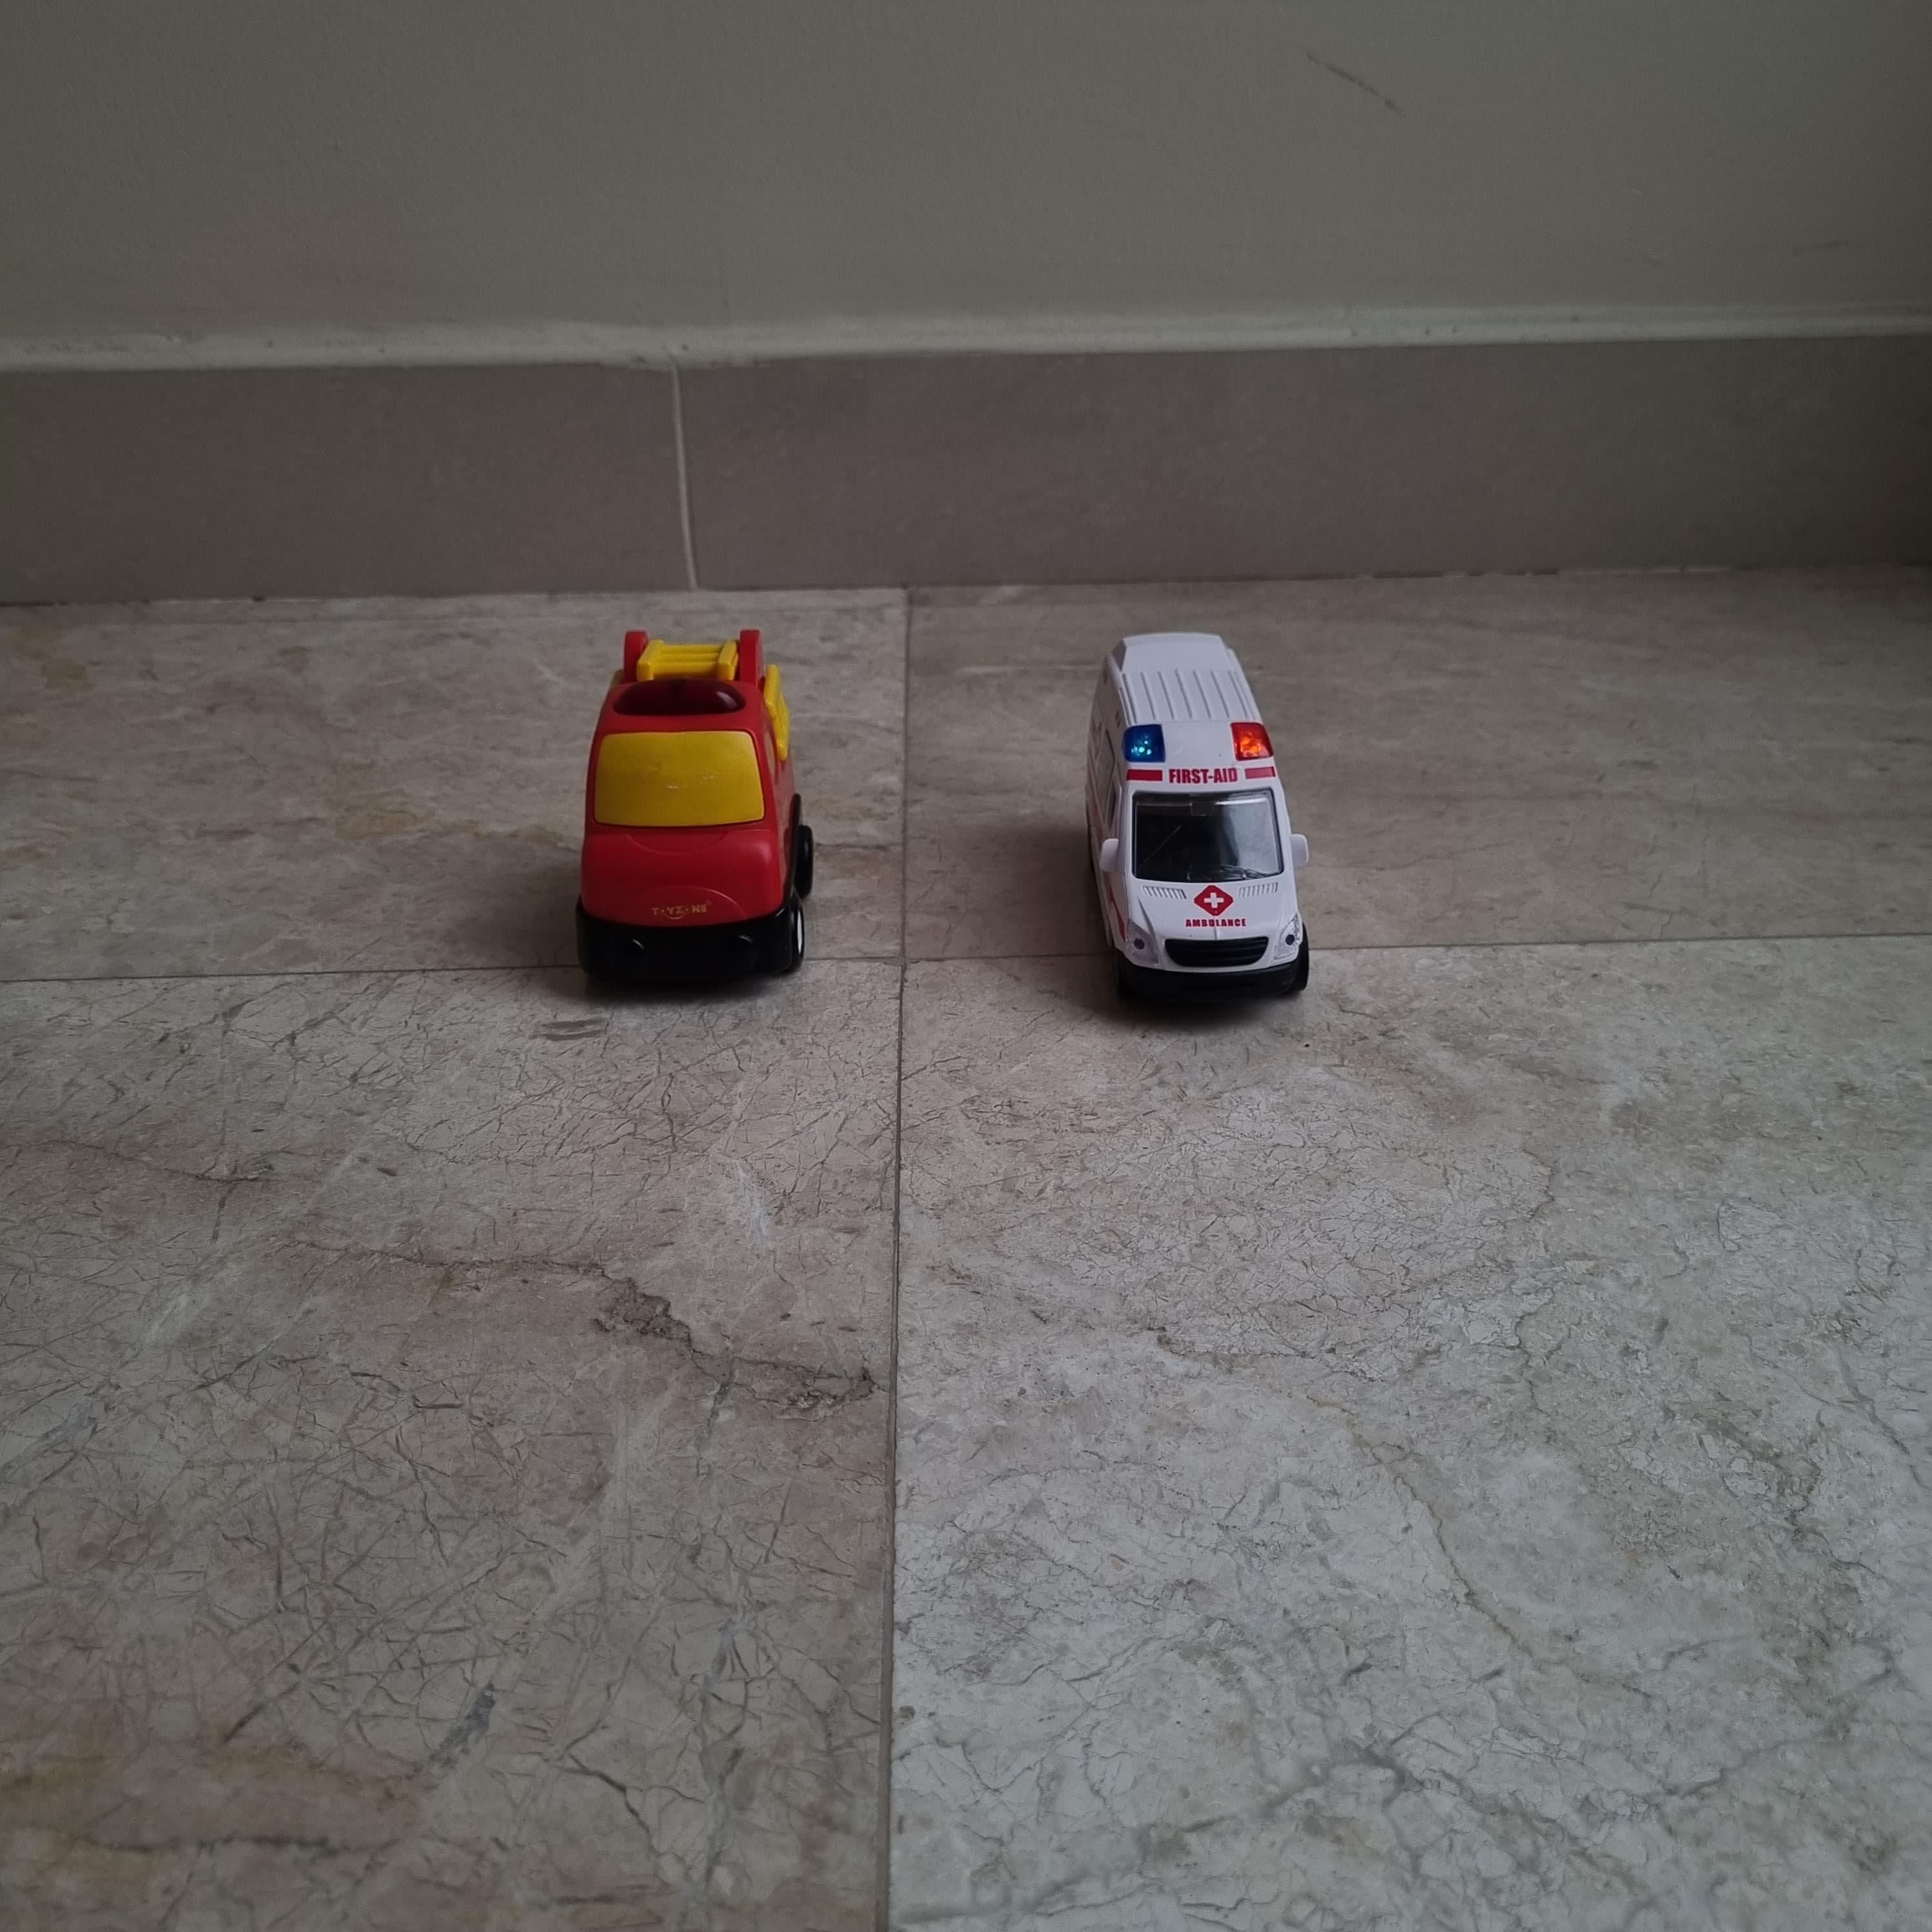ambulance_on: (1085, 633, 1309, 996)
firetruck_off: (571, 628, 816, 991)
